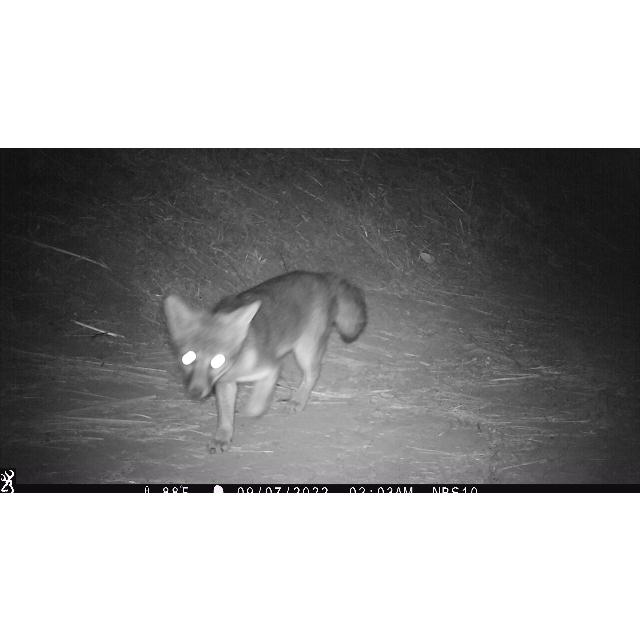animals: (162, 266, 370, 452)
